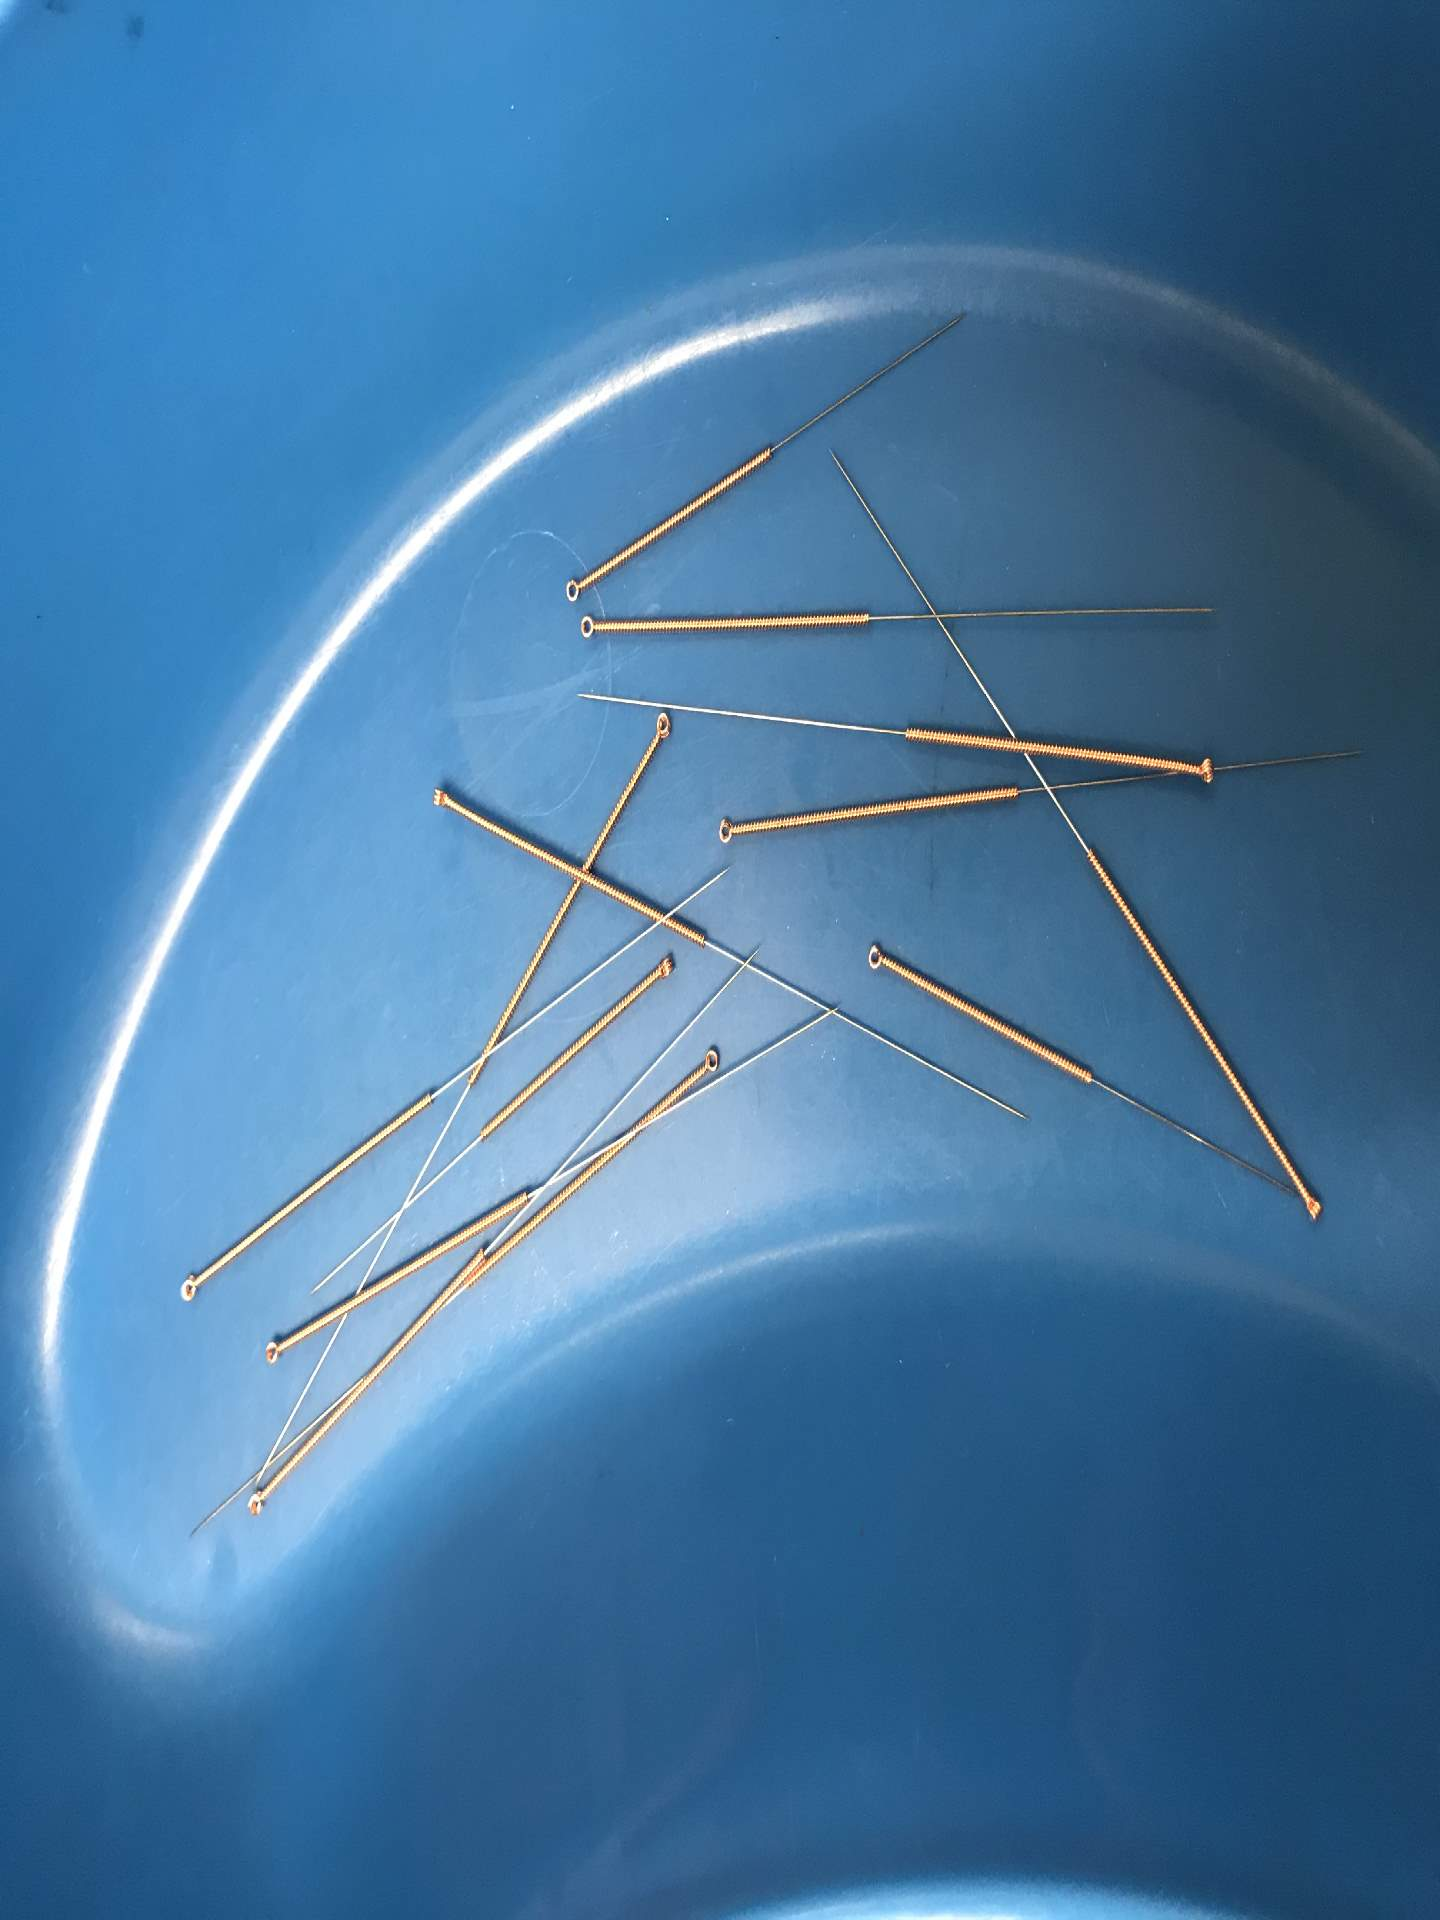needle: (1181, 747, 1225, 797), (705, 807, 749, 854), (1289, 1181, 1330, 1231), (856, 936, 898, 981), (422, 776, 461, 822), (171, 1265, 209, 1311), (644, 946, 684, 989), (569, 608, 607, 652), (643, 705, 678, 751), (557, 568, 594, 608), (694, 1039, 734, 1076), (241, 1482, 274, 1525), (257, 1330, 290, 1371)
